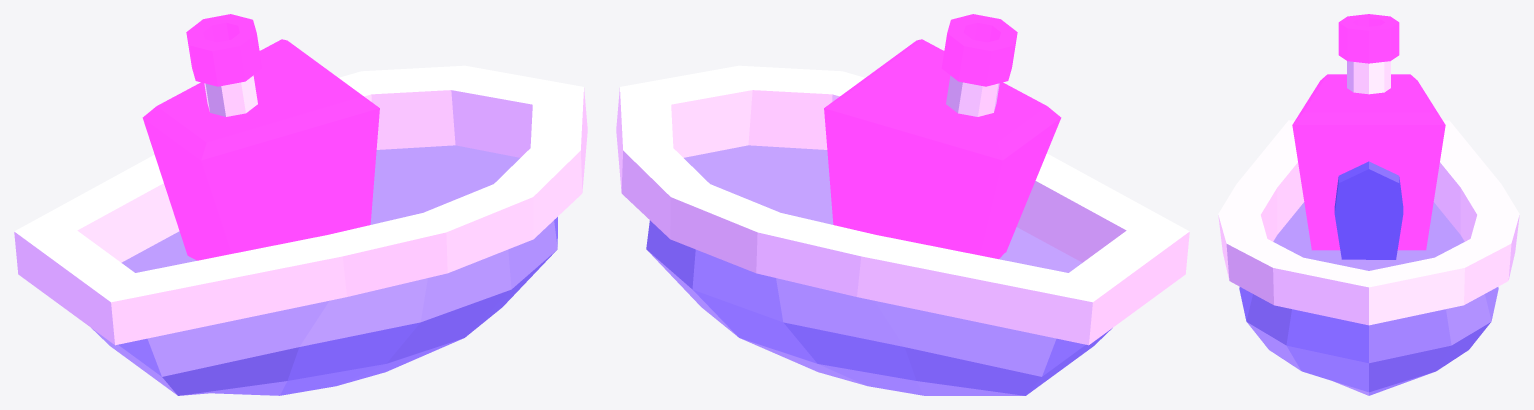
File: duck_boat_alone.fbx
3 renders of one model, left to right at view 1: azimuth 30°, elevation 25°; view 2: azimuth 150°, elevation 25°; view 3: azimuth 270°, elevation 25°, orthographic. The views are drawn at different scales.
Parts seen in each view (by area): view 1: Mball.017; view 2: Mball.017; view 3: Mball.017.
Boxes of the visible parts, x1=… form: Mball.017: x1=14, y1=14, x2=587, y2=395; Mball.017: x1=616, y1=14, x2=1189, y2=395; Mball.017: x1=1218, y1=14, x2=1519, y2=395.
Bounding box in the file's own units: 364 × 234 × 218.
